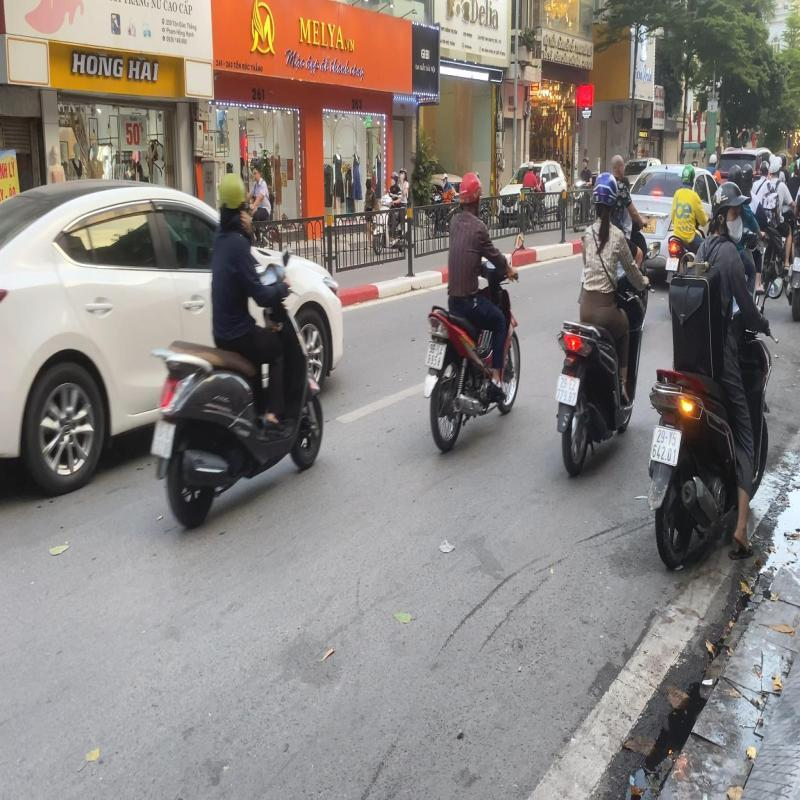nohelmet: (610, 150, 626, 178)
